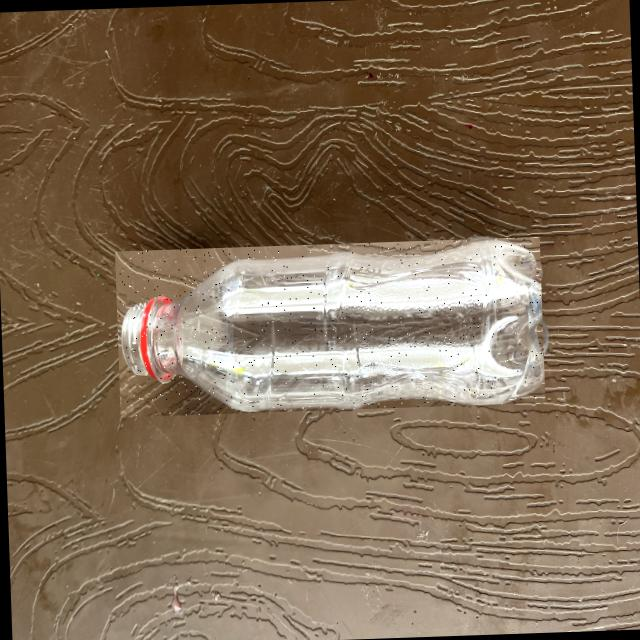PET_With_Cap: (113, 235, 544, 416)
